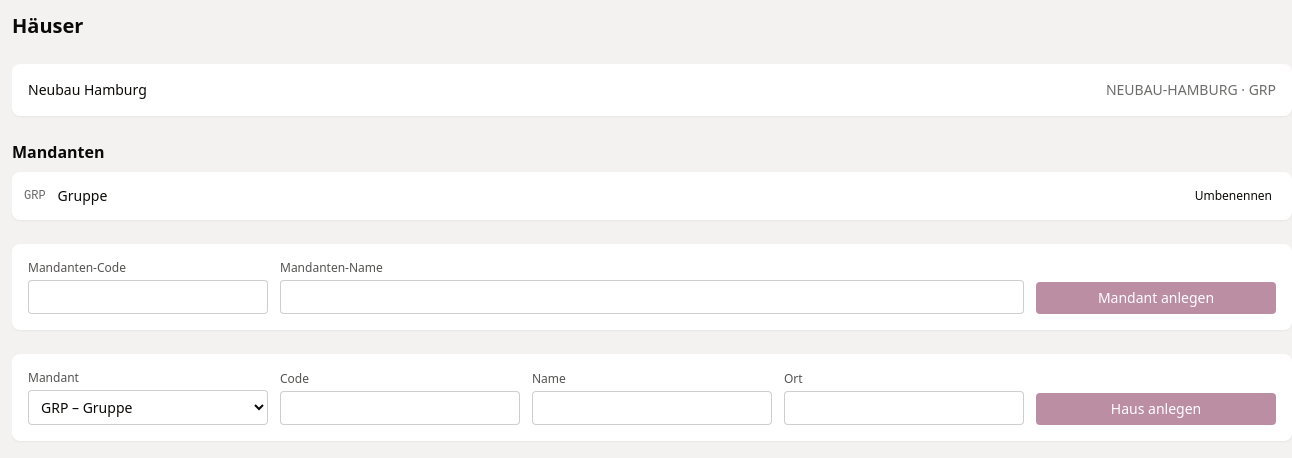
Scenario: PropertiesPage › suggests a property code that is not taken yet
This screenshot has width=1292, height=458.
Step 1. Type "Neubau Hamburg" into the field labelled "Name" → (652, 408), box [532, 391, 772, 425]
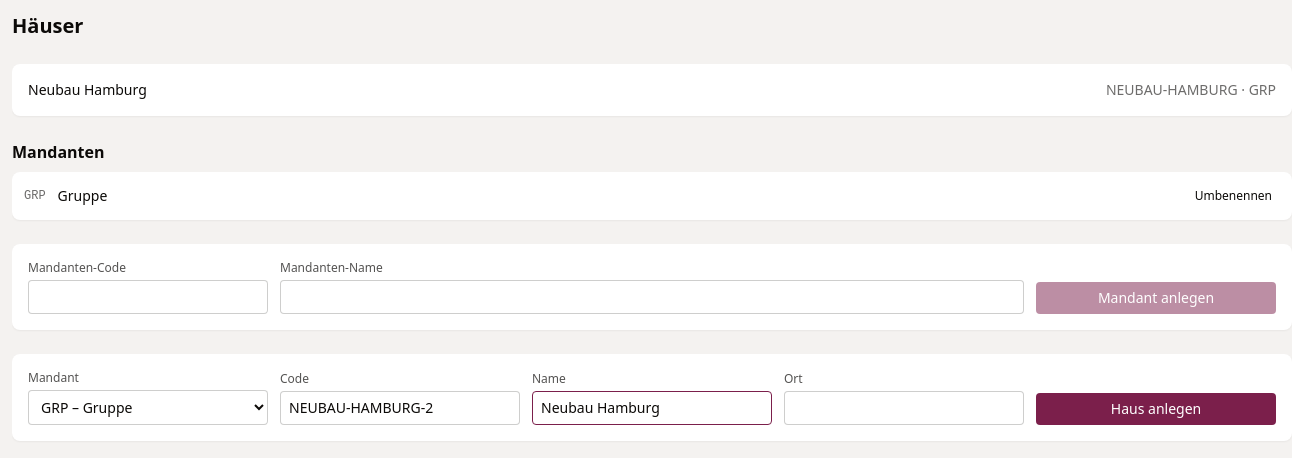
Now the field labelled "Code" holds "NEUBAU-HAMBURG-2", box [280, 391, 520, 425]
